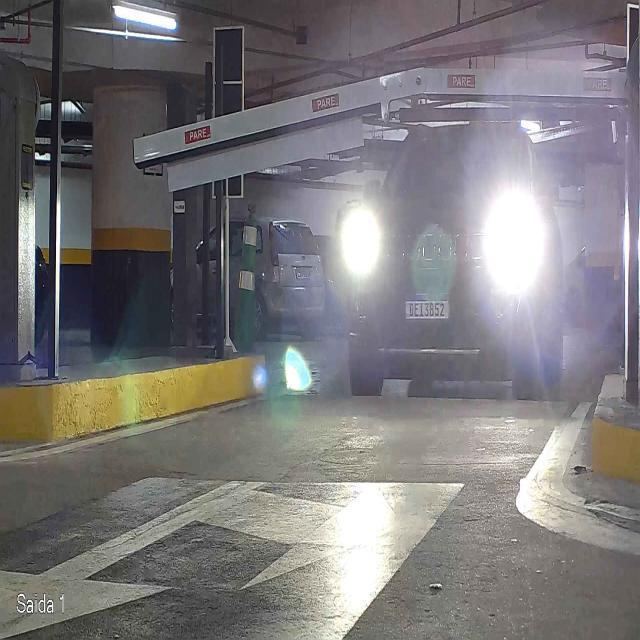mercosul_plate: (403, 291, 452, 320)
